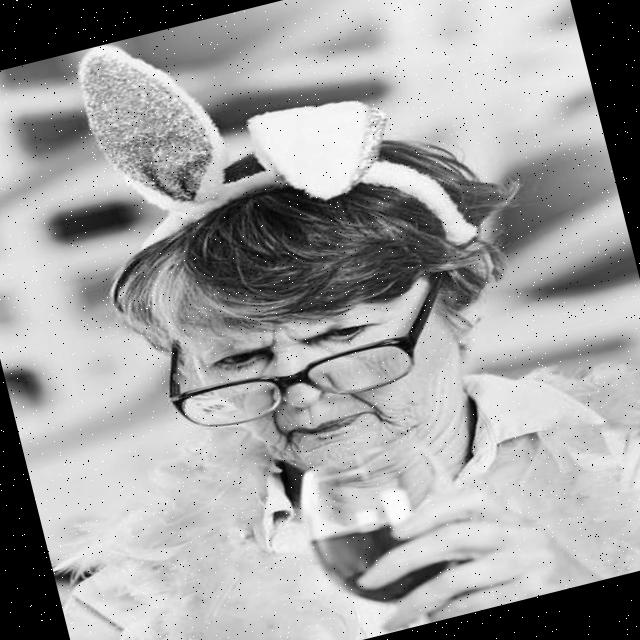Disgust: (184, 254, 486, 515)
